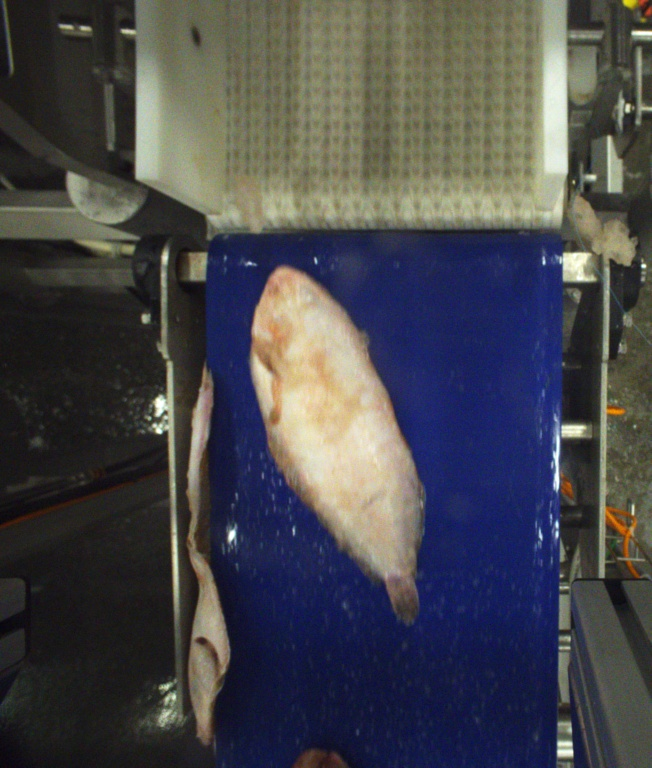SOL: (251, 266, 427, 624)
